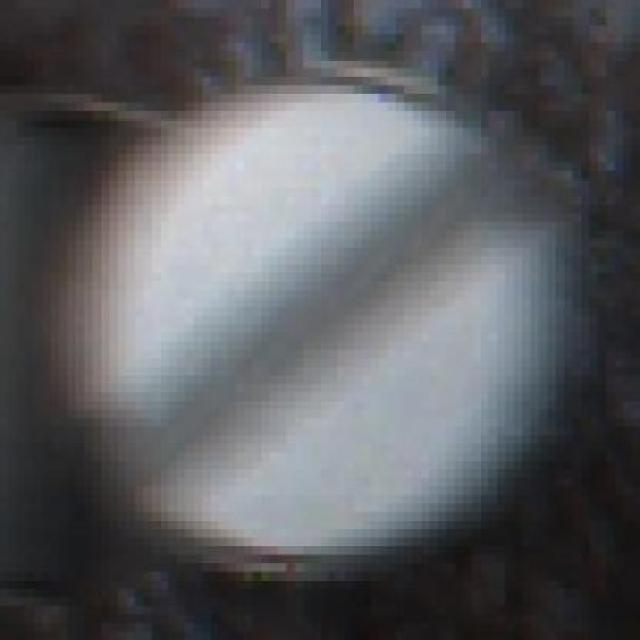End of all speed and passing limits: (34, 77, 581, 563)
